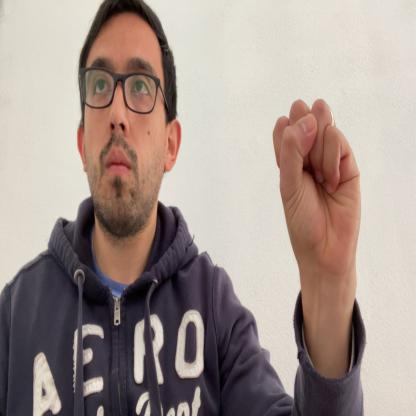S: (272, 96, 362, 277)
